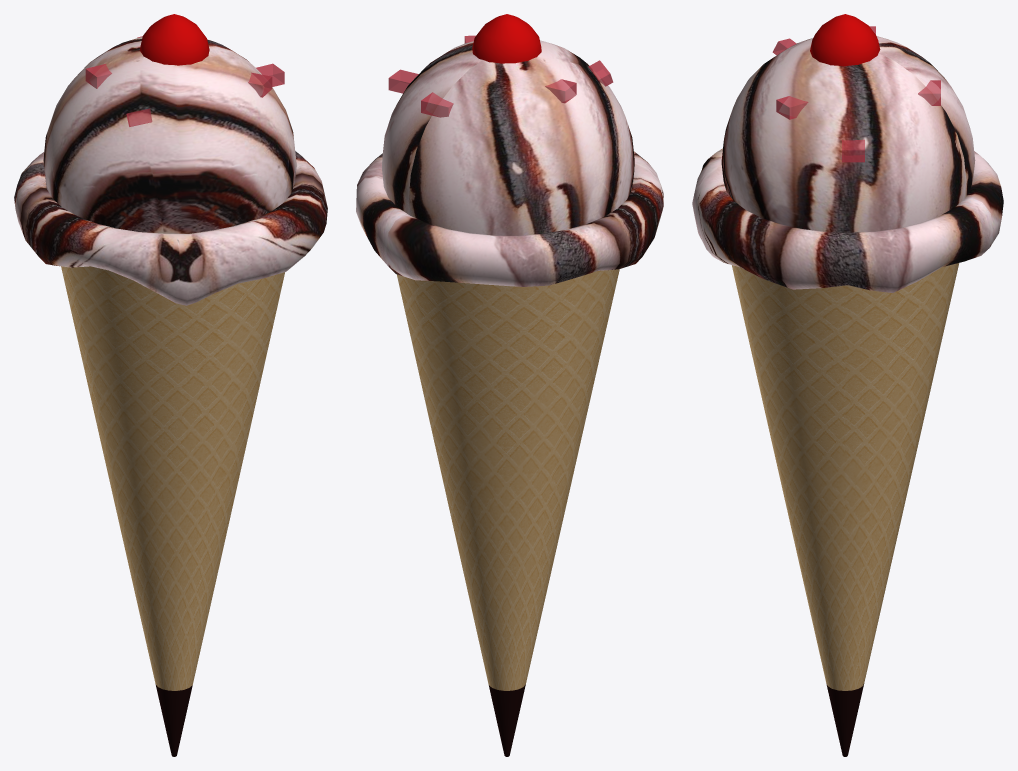
The model's file is icecream.glb.
3 views of the same model, side by side, from view 1: azimuth 30°, elevation 25°; view 2: azimuth 150°, elevation 25°; view 3: azimuth 270°, elevation 25° (orthographic).
Parts seen in each view (by area): view 1: Sphere001_03 - Default_0, Cone001, Sphere002; view 2: Sphere001_03 - Default_0, Cone001, Sphere002, Box001; view 3: Sphere001_03 - Default_0, Cone001, Sphere002, Box002.
Part boxes in pixels (x1=…): Sphere001_03 - Default_0: x1=14, y1=37, x2=327, y2=305; Cone001: x1=61, y1=266, x2=284, y2=756; Sphere002: x1=139, y1=14, x2=209, y2=65; Sphere001_03 - Default_0: x1=356, y1=40, x2=663, y2=286; Cone001: x1=397, y1=269, x2=619, y2=756; Sphere002: x1=472, y1=14, x2=541, y2=63; Box001: x1=421, y1=92, x2=453, y2=117; Sphere001_03 - Default_0: x1=692, y1=36, x2=1003, y2=292; Cone001: x1=732, y1=263, x2=959, y2=756; Sphere002: x1=810, y1=14, x2=880, y2=66; Box002: x1=842, y1=139, x2=864, y2=162.
Bounding box in the file's own units: 43.4 × 114 × 43.3.
Materials: 5 (2 with a texture image).
